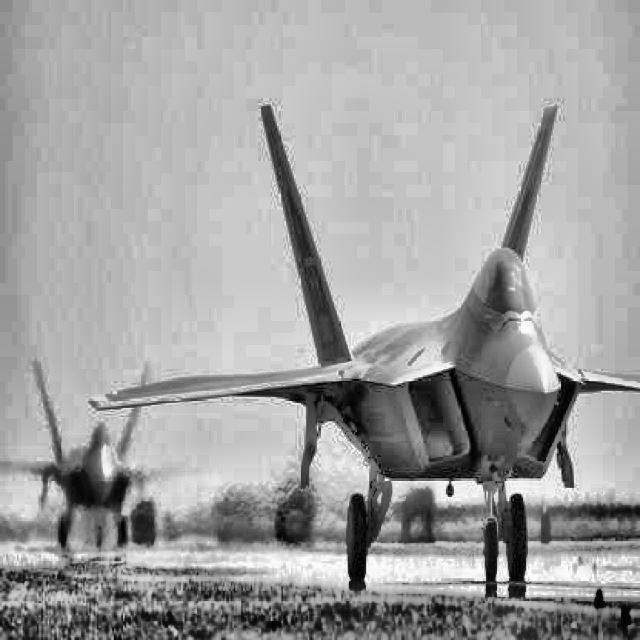F22: (88, 104, 640, 585), (1, 360, 204, 554)
